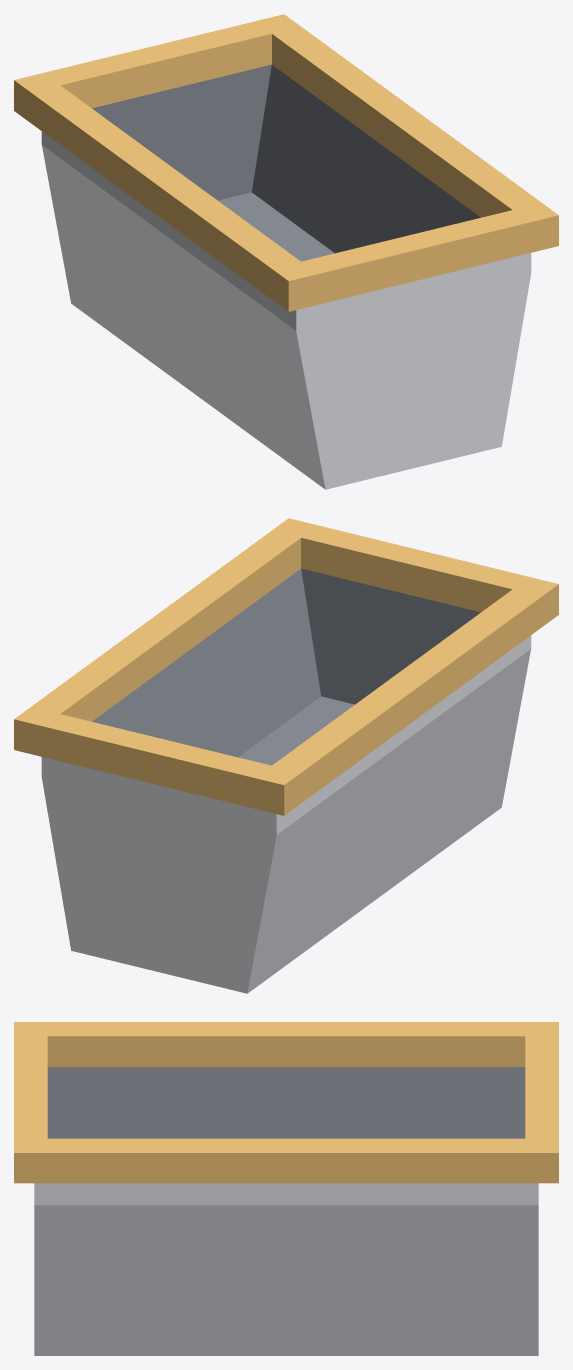
The model's file is load_lev1.glb.
The picture shows the model from 3 angles, top to bottom: view 1: azimuth 30°, elevation 25°; view 2: azimuth 150°, elevation 25°; view 3: azimuth 270°, elevation 25°; orthographic projection.
Parts seen in each view (by area): view 1: load_lev1; view 2: load_lev1; view 3: load_lev1.
Boxes of the visible parts, left/top/right/bottom form: load_lev1: left=14, top=14, right=558, bottom=489; load_lev1: left=14, top=518, right=558, bottom=993; load_lev1: left=14, top=1022, right=558, bottom=1355.
Bounding box in the file's own units: 0.46 × 0.37 × 0.81.
